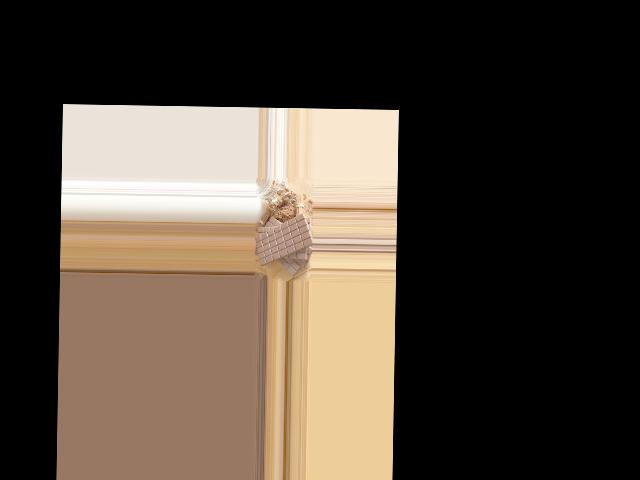chocolate: (256, 209, 313, 267)
